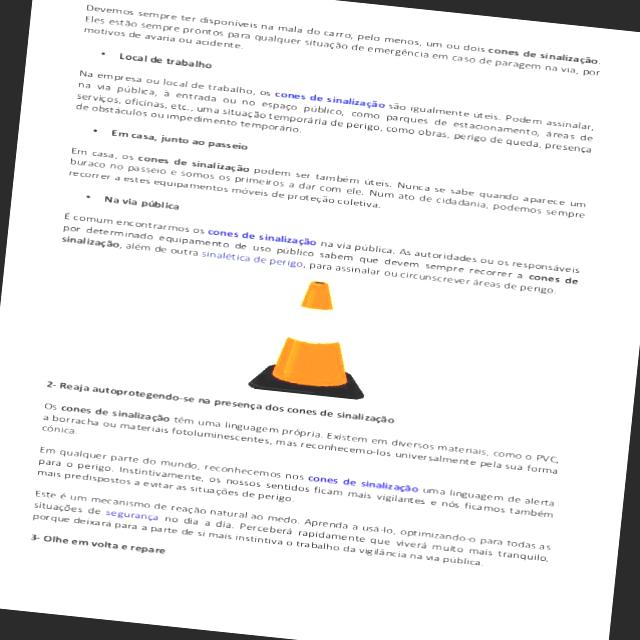cone: (241, 274, 384, 400)
